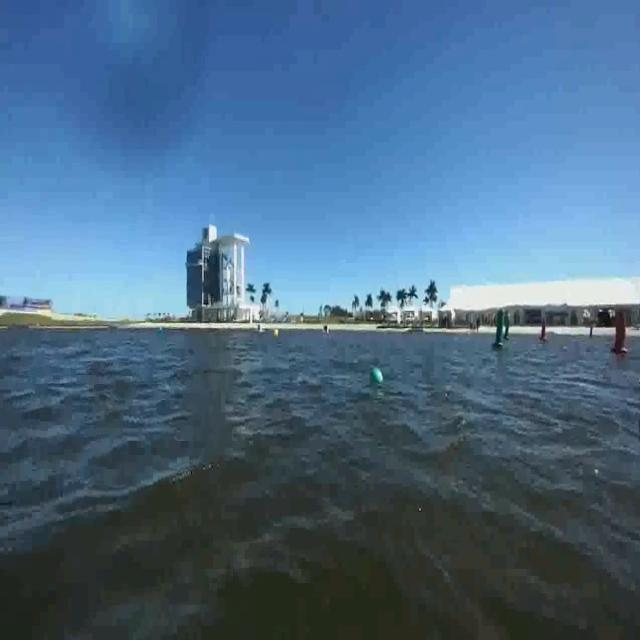green-buoy: (370, 368, 380, 382)
green-column-buoy: (492, 310, 507, 352)
red-column-buoy: (613, 315, 631, 357), (538, 316, 549, 343)
yellow-buoy: (274, 327, 280, 338)
